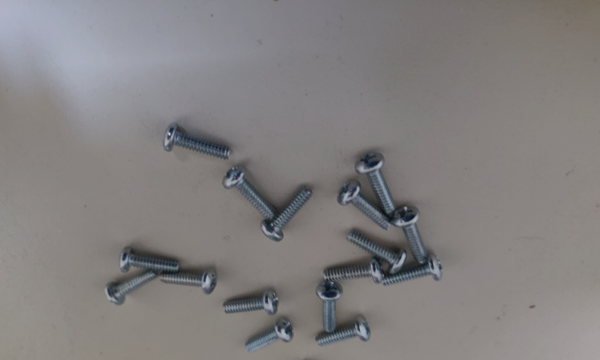shortscrew: (259, 185, 313, 243), (223, 166, 275, 220), (337, 180, 392, 231), (347, 229, 407, 274), (355, 153, 398, 214), (163, 123, 231, 161), (392, 206, 427, 265), (104, 270, 158, 307), (384, 254, 444, 287), (315, 316, 371, 348), (245, 318, 294, 353), (159, 268, 218, 296), (119, 247, 180, 274), (323, 258, 384, 284), (317, 281, 344, 333), (224, 291, 279, 316)
